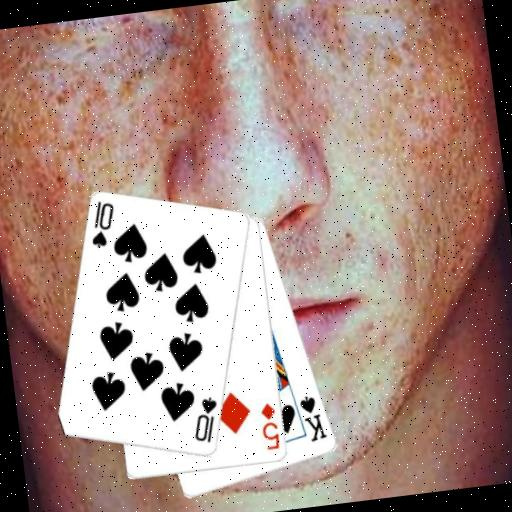10S: (187, 394, 224, 447), (84, 197, 120, 251)
5D: (256, 400, 283, 453)
KS: (296, 392, 330, 446)
